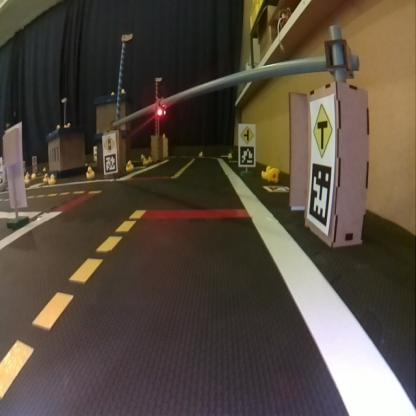Duckie: (268, 168, 276, 180), (85, 166, 92, 175)
Intersection sign: (312, 103, 334, 156), (239, 125, 253, 143)
QR code: (308, 166, 333, 226), (102, 154, 118, 172), (239, 148, 254, 165), (264, 184, 288, 192)
Signal sign: (103, 136, 116, 151)
Traffic light: (156, 104, 166, 116)
